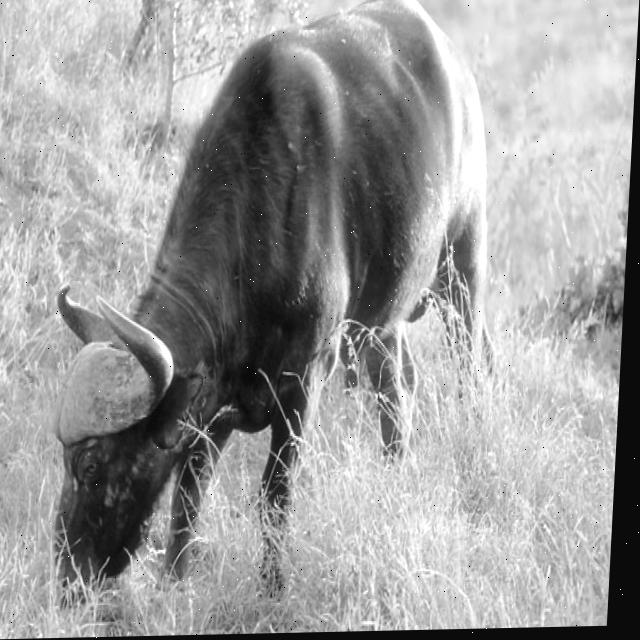Buffalo: (40, 0, 516, 606)
